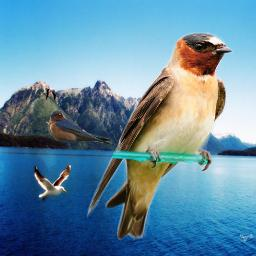Swallow: (87, 32, 233, 240), (48, 110, 118, 146)
